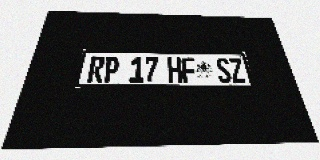1: (129, 57, 144, 82)
7: (144, 57, 158, 83)
F: (181, 58, 197, 83)
H: (167, 57, 183, 83)
P: (102, 56, 120, 82)
R: (87, 56, 105, 82)
S: (215, 58, 233, 83)
Z: (228, 58, 246, 83)
